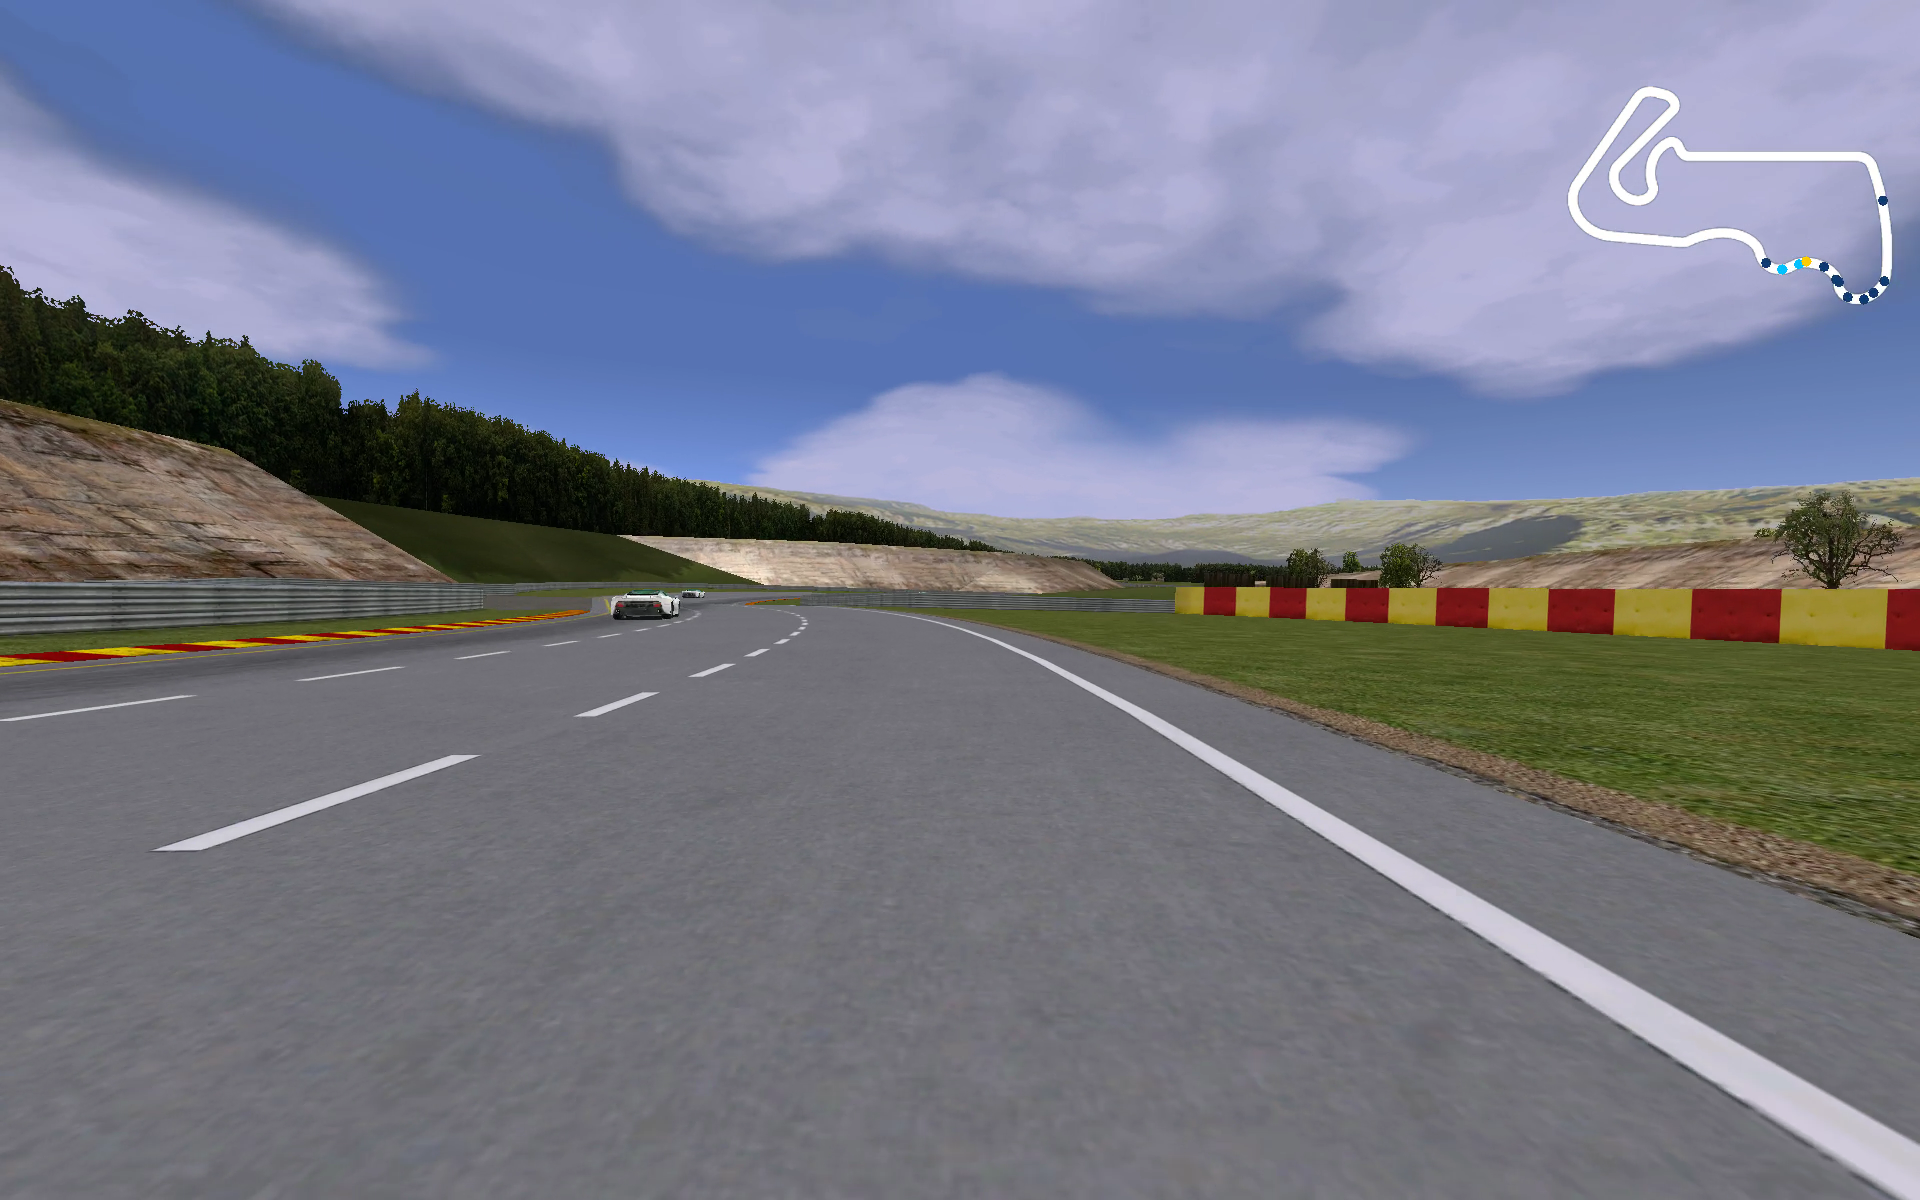car: (610, 586, 683, 622), (677, 583, 710, 601)
